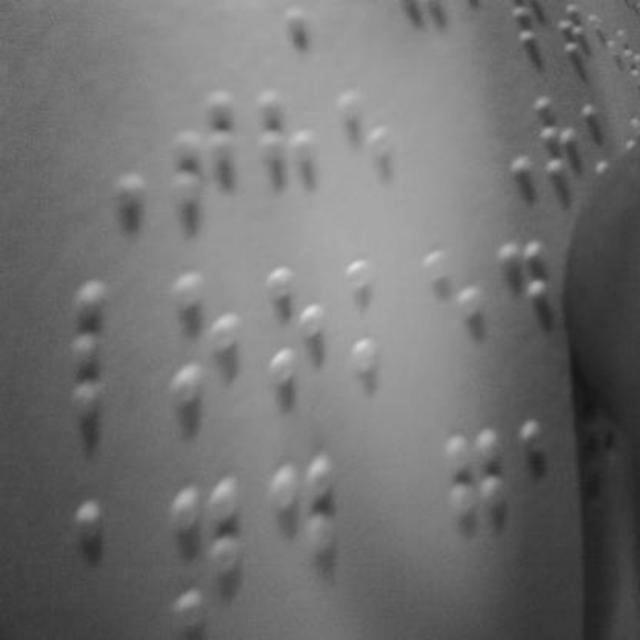braiile: (164, 476, 246, 640), (262, 459, 342, 617), (72, 492, 152, 636), (443, 427, 513, 587), (418, 247, 492, 396), (166, 272, 242, 412), (338, 255, 412, 395), (256, 261, 328, 399), (62, 281, 134, 414), (496, 235, 560, 382), (170, 84, 238, 218), (252, 81, 318, 213), (332, 78, 398, 204)
